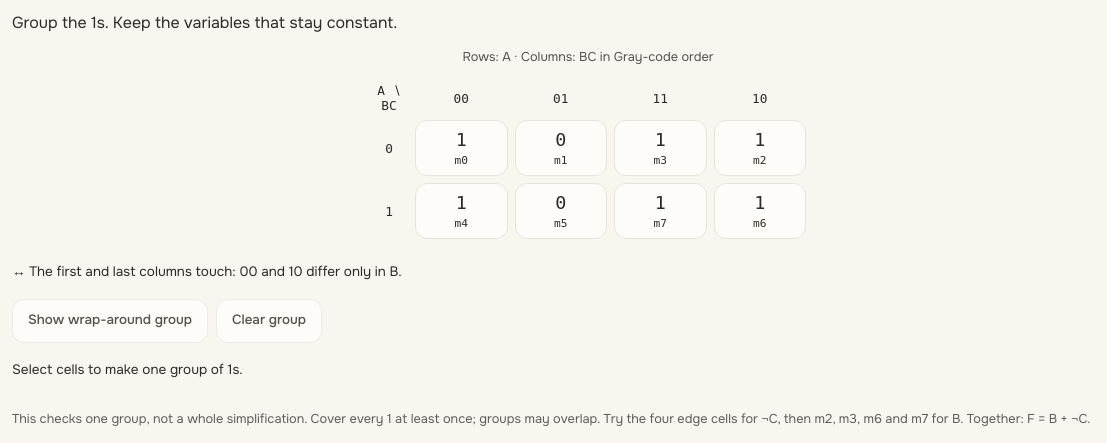
Test: Karnaugh groups › shows Gray order and supports select, deselect, wrap preset and clear
Expected: the column headings read "A ∖ BC", "00", "01", "11", "10", in this order, [369, 82, 409, 114]; [414, 82, 508, 114]; [514, 82, 608, 114]; [613, 82, 708, 114]; [712, 82, 807, 114]
Click the button named "m0,".
click(461, 148)  # box [415, 120, 508, 176]
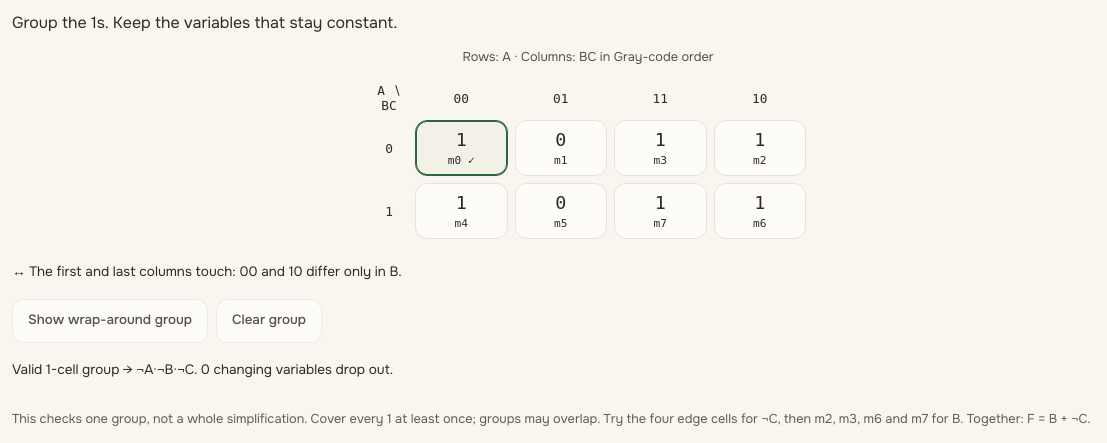
Now the message shows "¬A·¬B·¬C", box [12, 361, 393, 378]
Click the button named "m0,".
click(461, 148)  # box [415, 120, 508, 176]
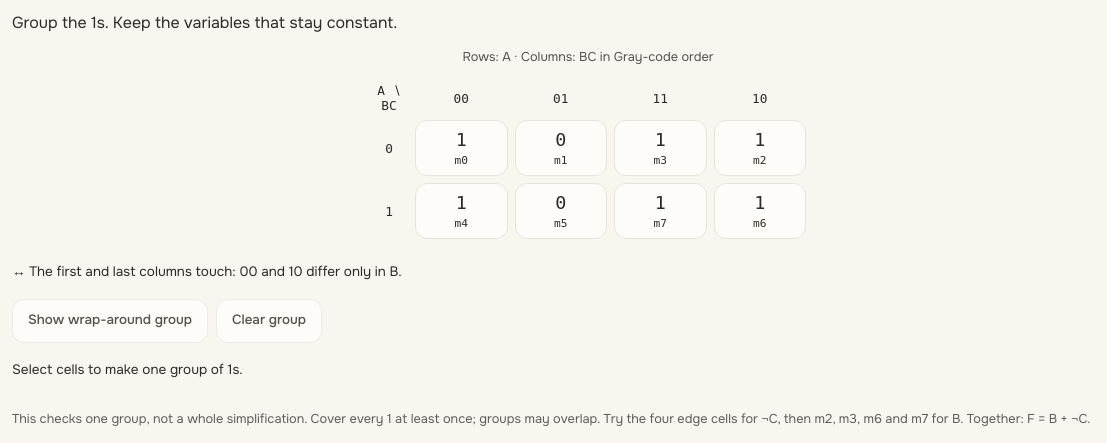
Now the button named "m0," is not pressed, box [415, 120, 508, 176]
Click the button "Show wrap-around group".
click(110, 321)  # box [12, 299, 208, 343]
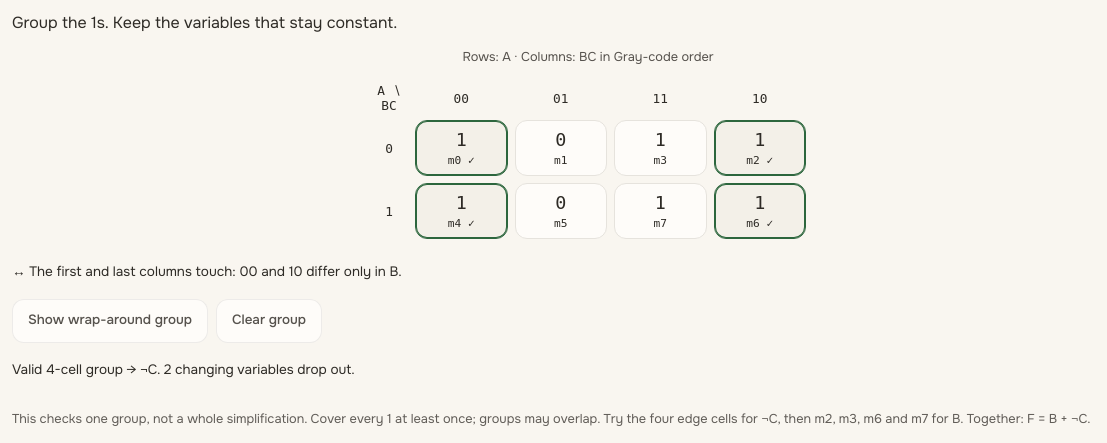
Now the message shows "Valid 4-cell group → ¬C", box [12, 361, 355, 378]
Click the button "Clear group".
click(269, 321)  # box [216, 299, 322, 343]
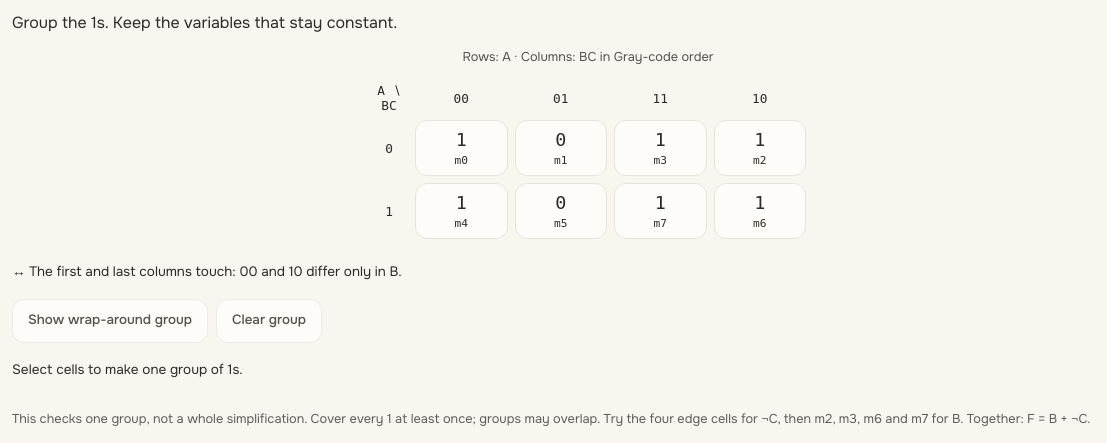
Now the message shows "Select cells", box [12, 361, 243, 378]
